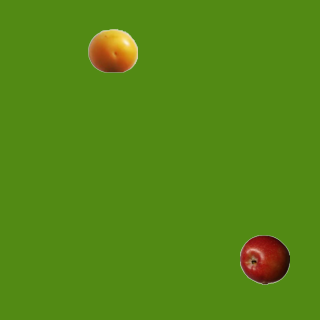Apple Braeburn: (239, 234, 289, 284)
Cherry Wax Yellow: (87, 25, 137, 75)
